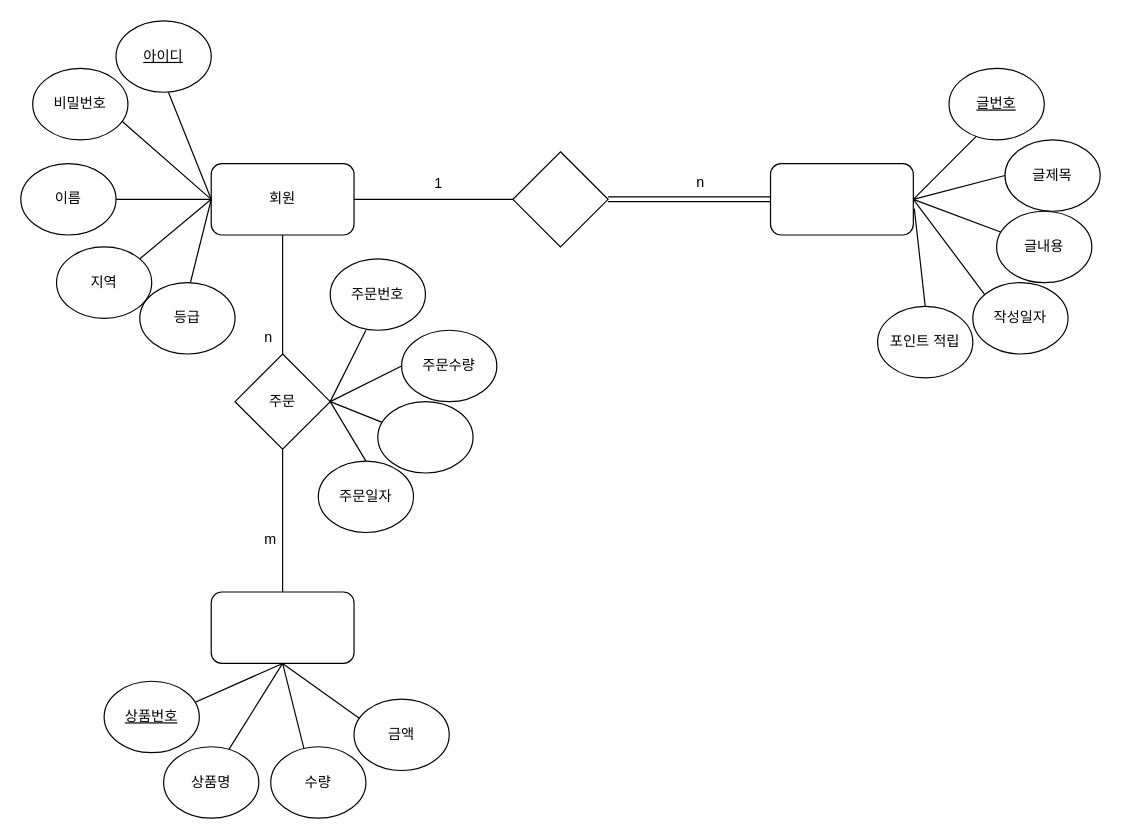
The diagram is 1121 pixels wide and 839 high, and some of its shapes have lost their labels. The shapes that lost their labels are listed below. From the top down, each one's box as (x1, y1, x2, y2) in pixels, then its label:
(512, 151, 608, 247): 작성
(769, 162, 913, 235): 후기
(377, 400, 473, 473): 배송지
(210, 591, 354, 663): 의류 상품
